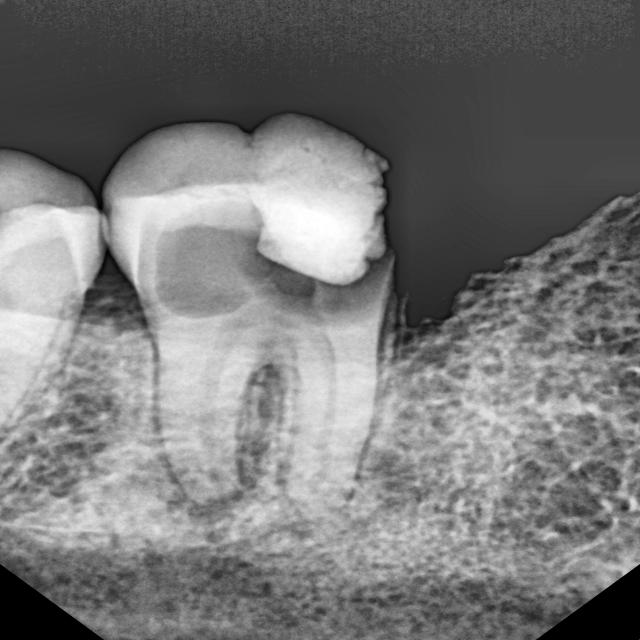Restoration: (205, 74, 444, 327)
